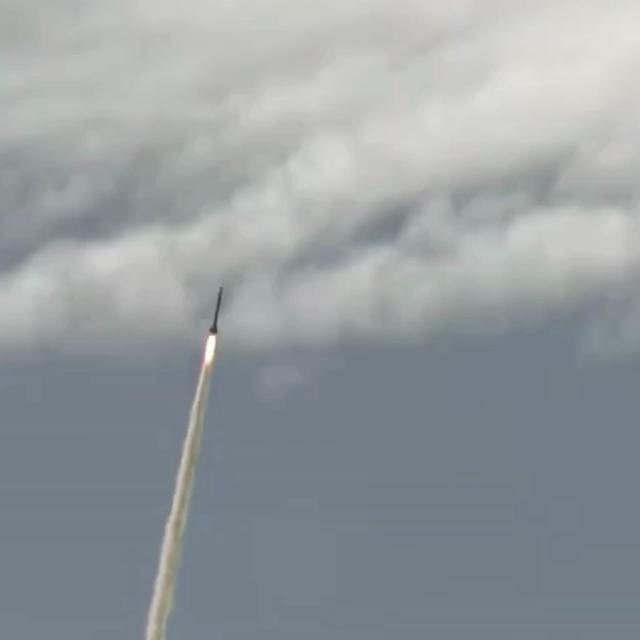rocket: (208, 286, 226, 335)
smoke_trail_with_rocket: (143, 287, 224, 640)
